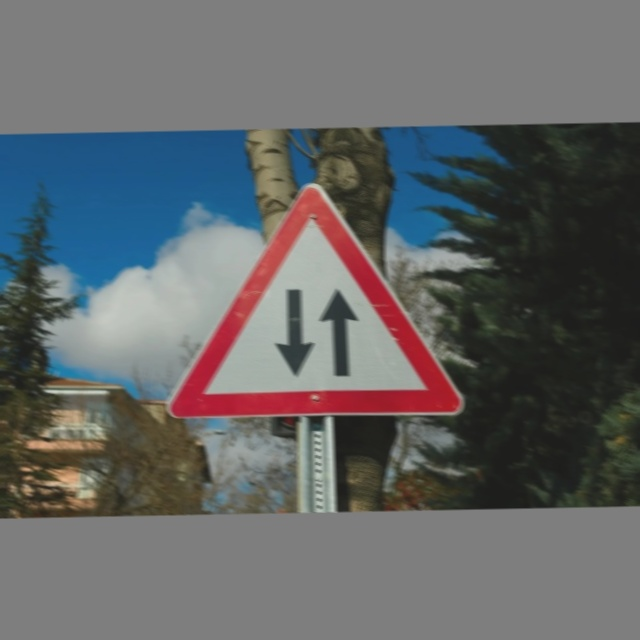Mandatory_Two_Way_Traffic: (163, 181, 464, 424)
